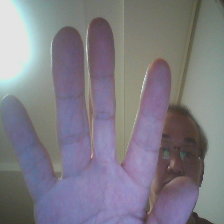hand: (6, 20, 192, 224)
